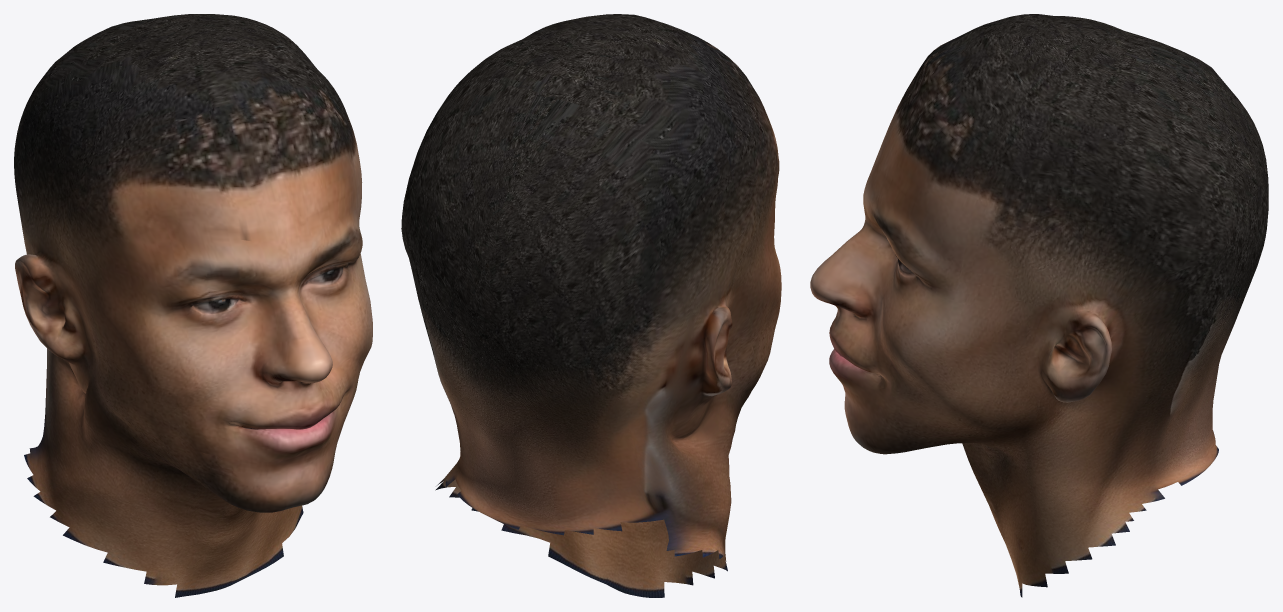
File: mbappe_head.glb
3 views of the same model, side by side, from view 1: azimuth 30°, elevation 25°; view 2: azimuth 150°, elevation 25°; view 3: azimuth 270°, elevation 25° (orthographic). The views are drawn at different scales.
Visible parts, largest first — view 1: MbappeHead; view 2: MbappeHead; view 3: MbappeHead.
Part boxes in pixels (x1,y1,x2,y2): MbappeHead: [14, 14, 372, 597]; MbappeHead: [401, 14, 781, 597]; MbappeHead: [810, 14, 1268, 597].
Size of the model in its own units: 0.1593 by 0.2727 by 0.2056.
1 material, 1 textured.
